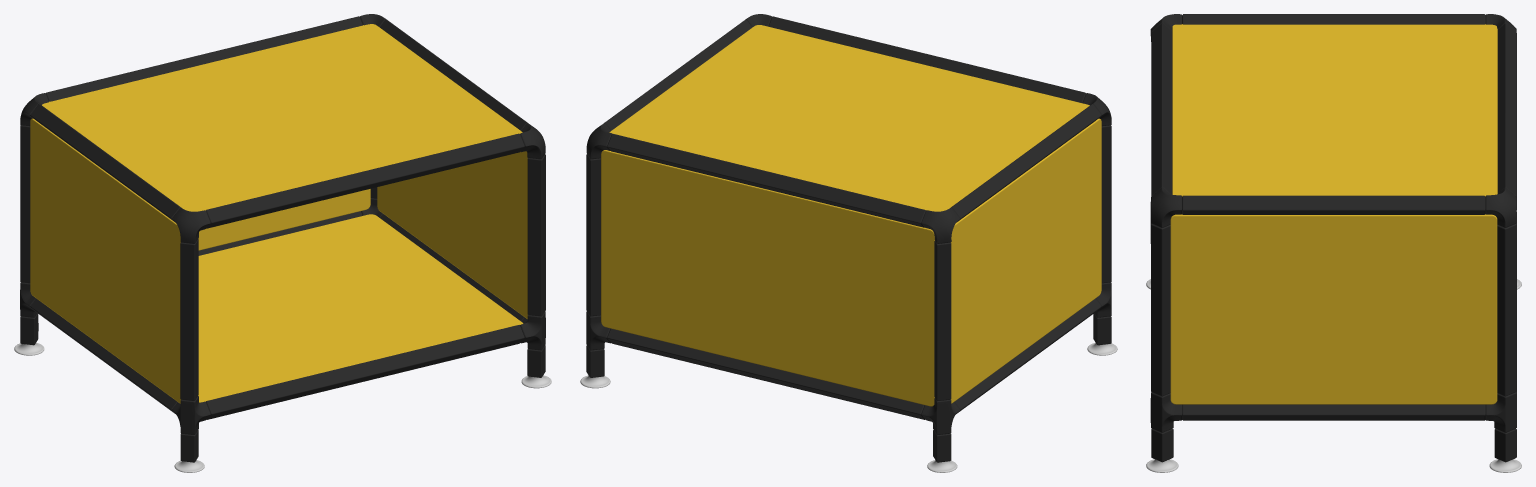
3 renders of one model, left to right at view 1: azimuth 30°, elevation 25°; view 2: azimuth 150°, elevation 25°; view 3: azimuth 270°, elevation 25°, orthographic. The views are drawn at different scales.
Parts seen in each view (by area): view 1: 479x374x229; view 2: 479x374x229; view 3: 479x374x229.
Part boxes in pixels (x1,y1,x2,y2): 479x374x229: (14, 14, 551, 472); 479x374x229: (580, 14, 1117, 472); 479x374x229: (1146, 14, 1521, 472).
Size of the model in its own units: 0.5689 by 0.3684 by 0.4633.
